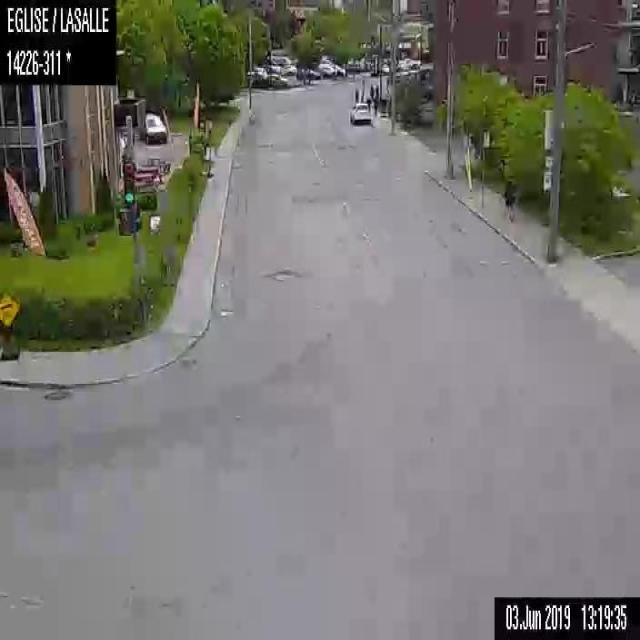pedestrian: (502, 176, 514, 220), (372, 92, 378, 116)
vehicle: (139, 109, 167, 146), (348, 101, 371, 123), (261, 74, 287, 84)
